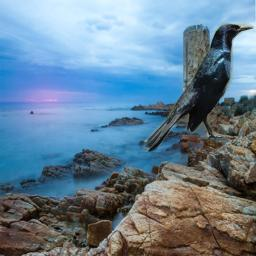Crow: (142, 22, 254, 153)
